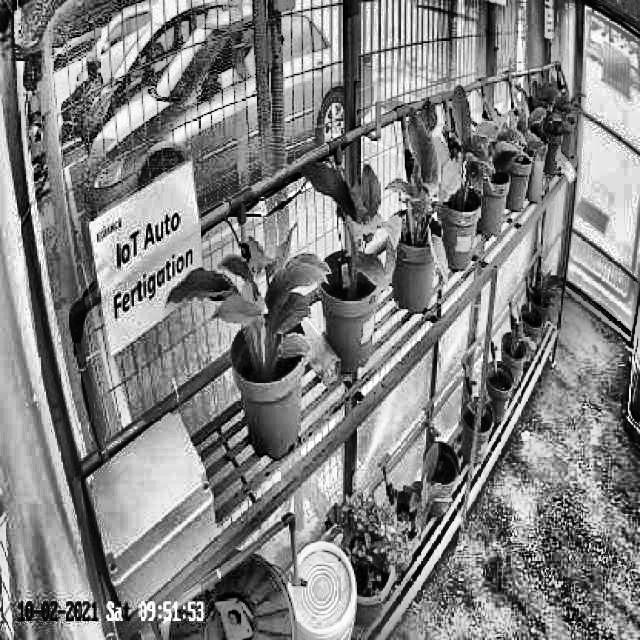plants: (164, 222, 332, 370), (298, 158, 404, 297), (386, 102, 451, 290)
